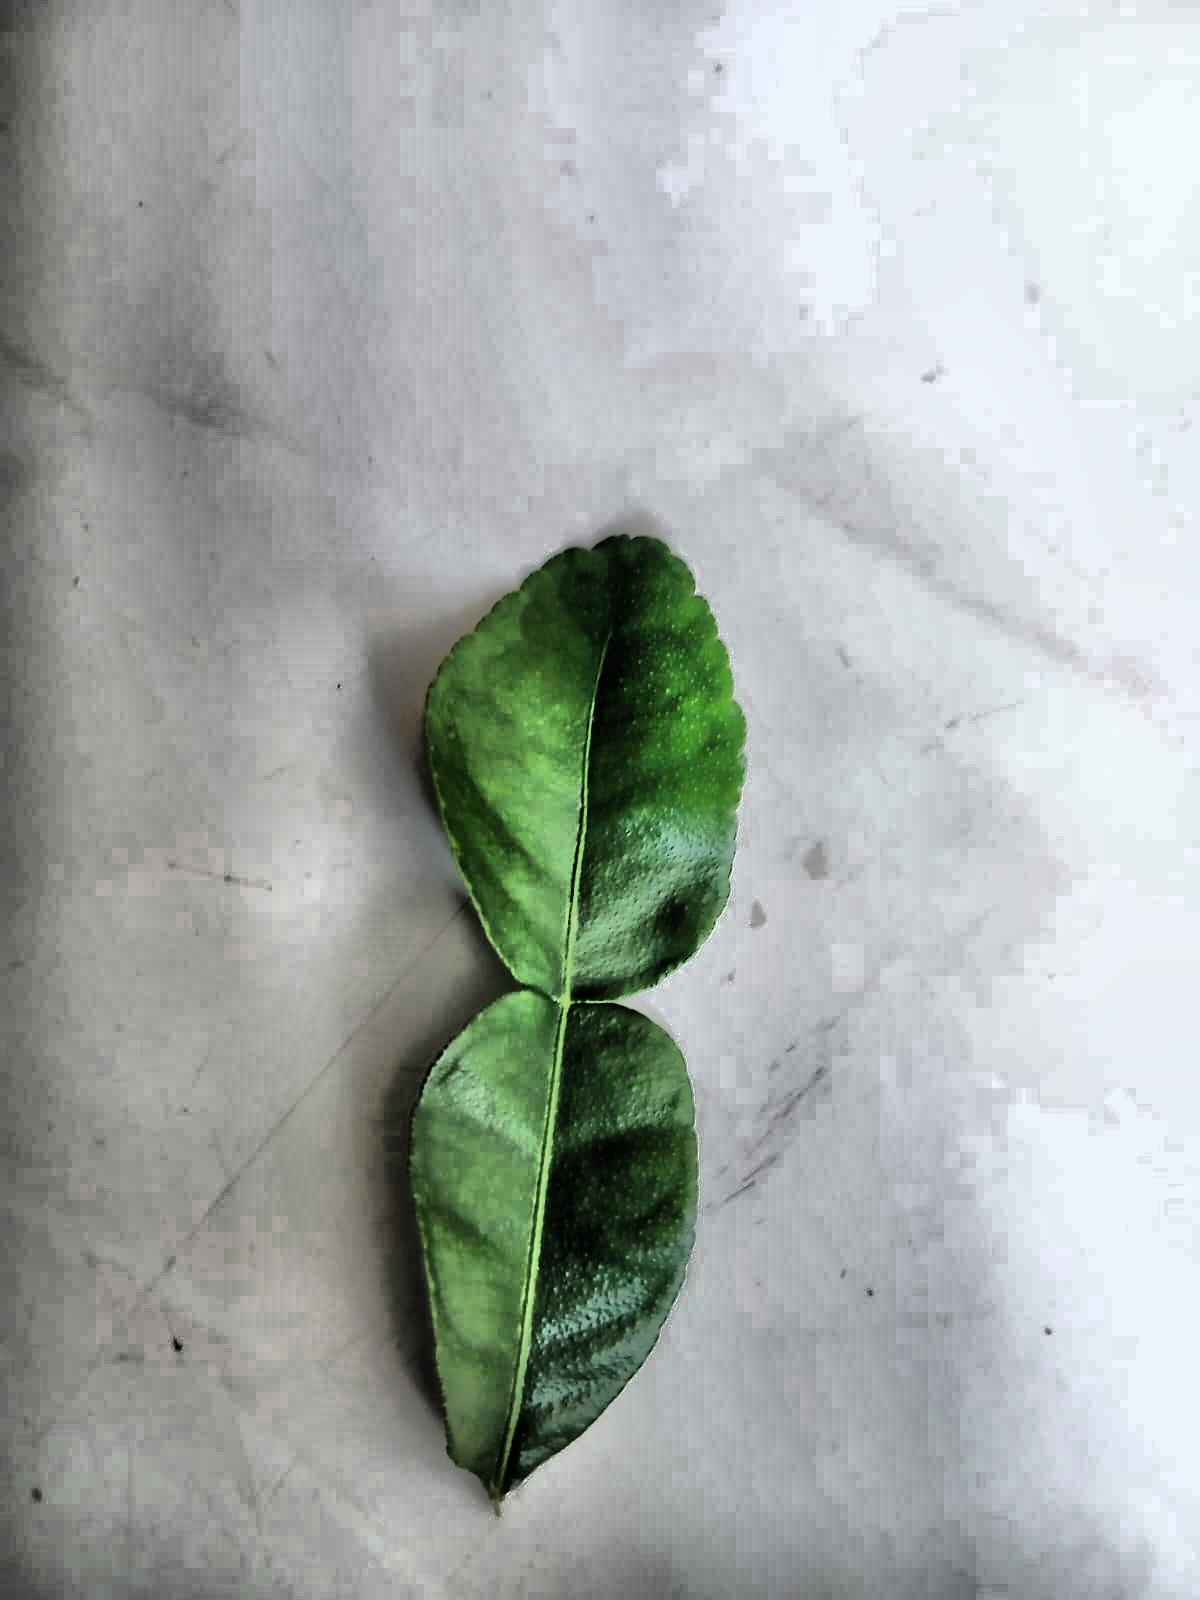daun jeruk: (408, 535, 744, 1504)
